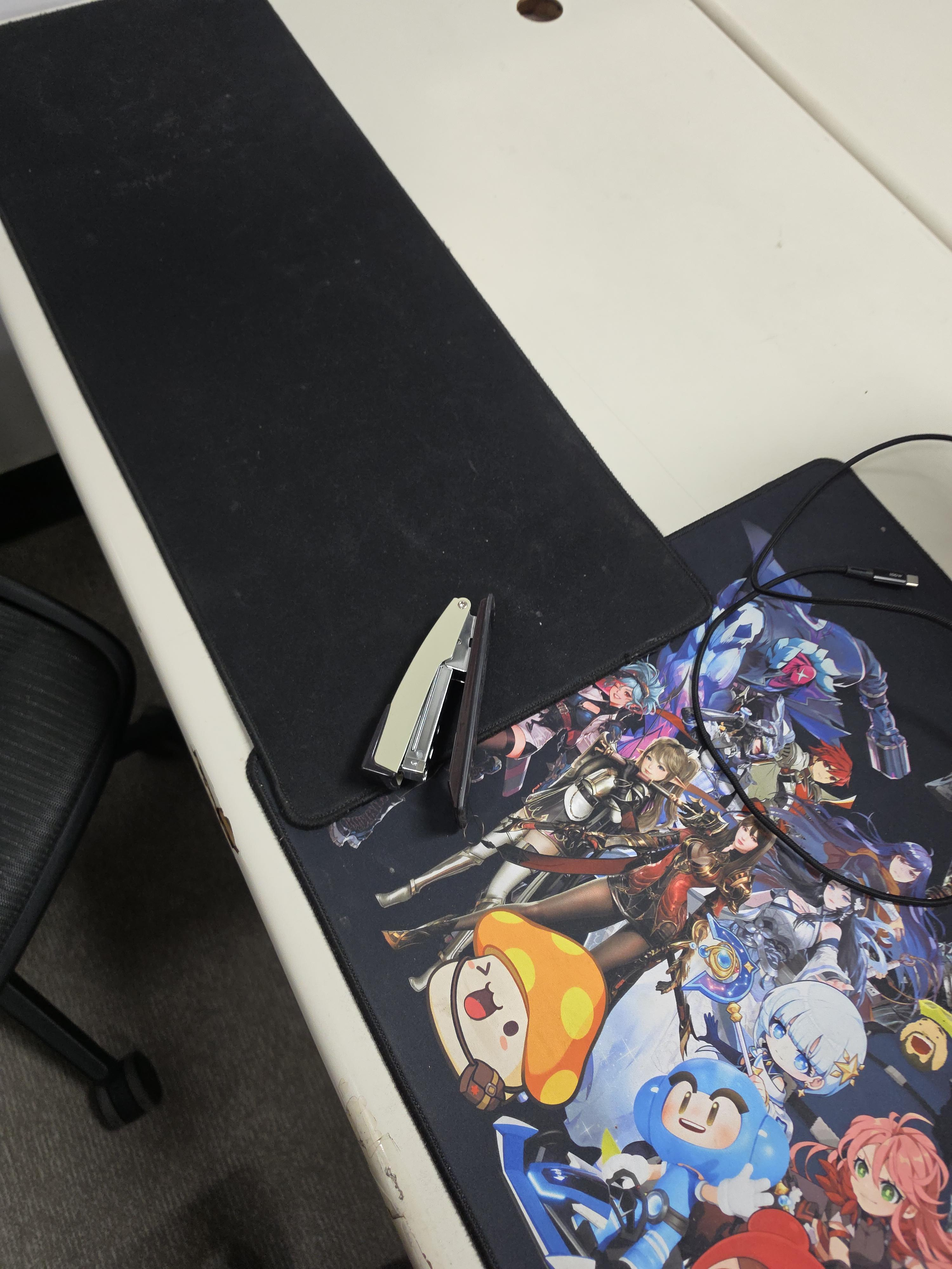stapler: (361, 592, 497, 833)
